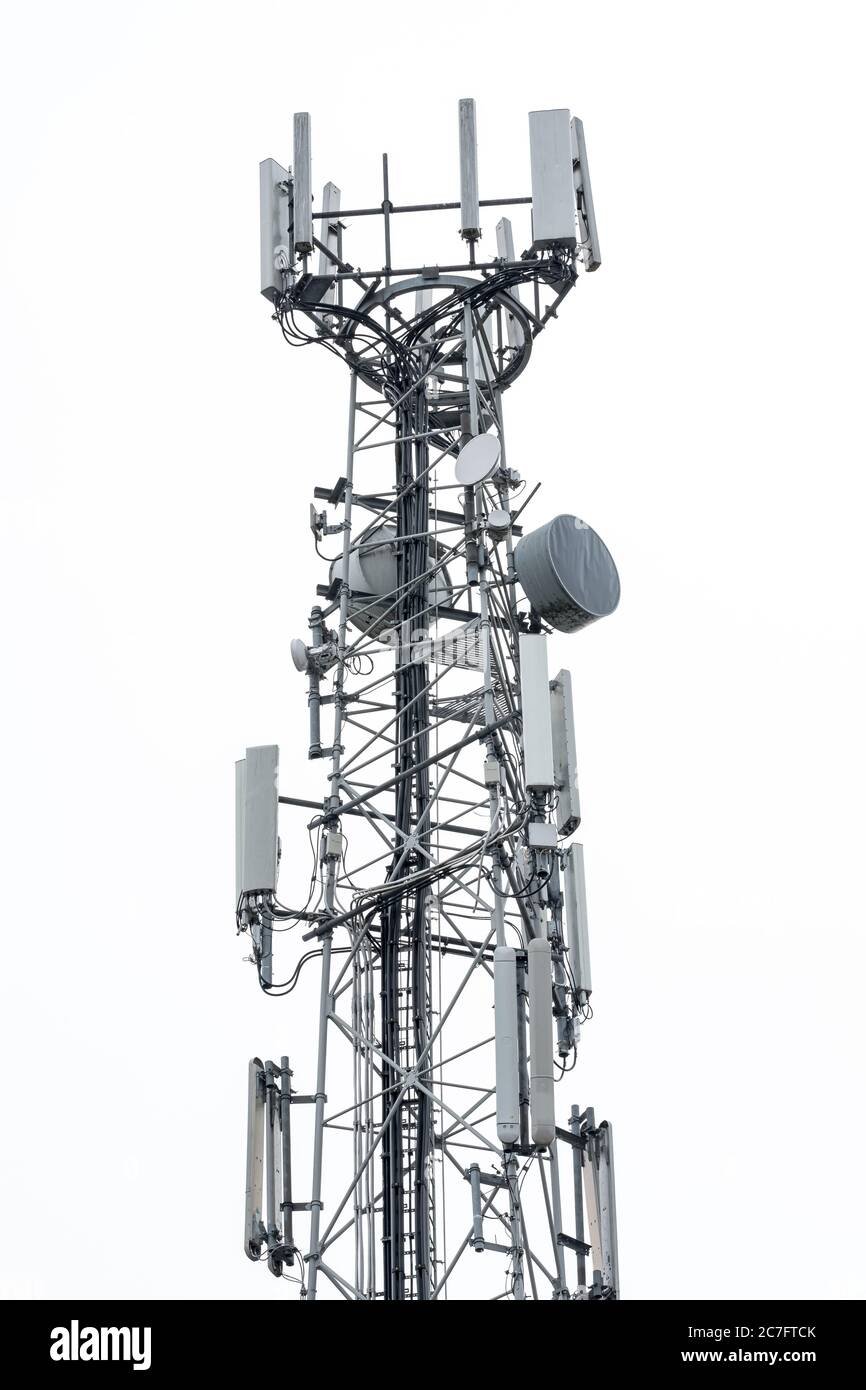ba: (514, 496, 631, 645)
sa: (206, 727, 289, 960), (236, 1045, 307, 1270), (511, 98, 587, 280), (508, 609, 558, 833), (433, 86, 487, 281), (521, 917, 564, 1151), (485, 921, 523, 1159)
